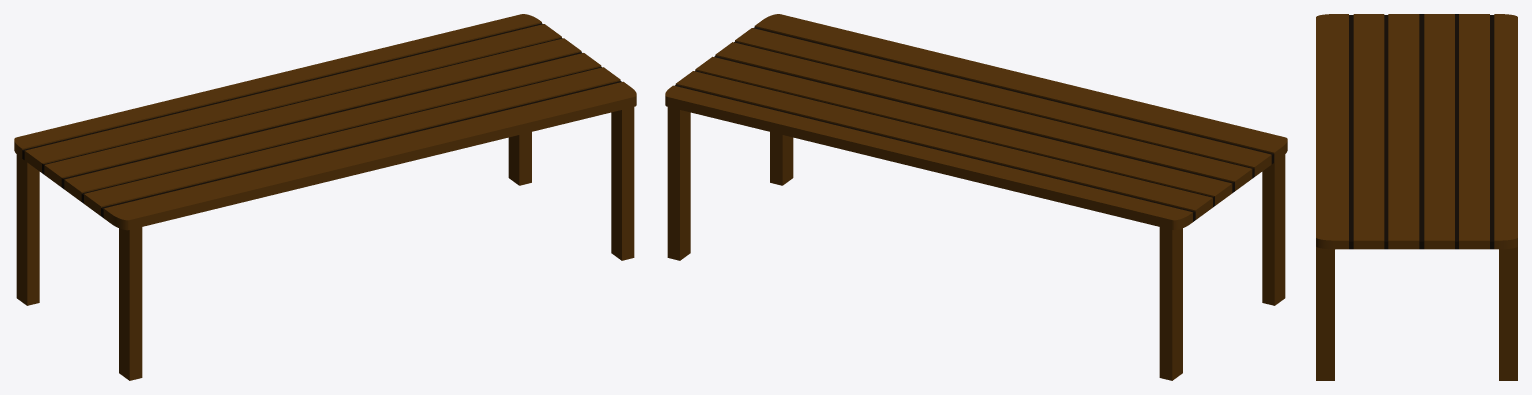
Rendered from Mesa (2).fbx.
3 renders of one model, left to right at view 1: azimuth 30°, elevation 25°; view 2: azimuth 150°, elevation 25°; view 3: azimuth 270°, elevation 25°, orthographic. The views are drawn at different scales.
Visible parts, largest first — view 1: Cube; view 2: Cube; view 3: Cube.
Part boxes in pixels (x1,y1,x2,y2): Cube: (14, 14, 636, 380); Cube: (665, 14, 1287, 380); Cube: (1316, 14, 1517, 380).
Size of the model in its own units: 608 by 180 by 229.
